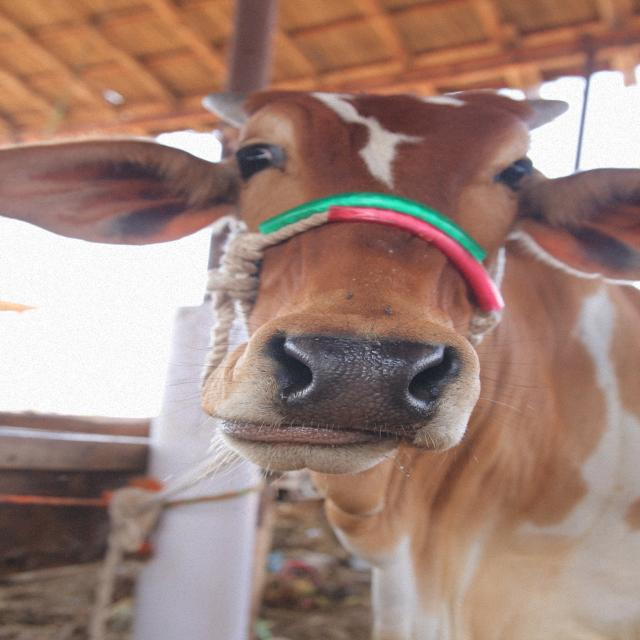muzzles: (257, 327, 469, 442)
